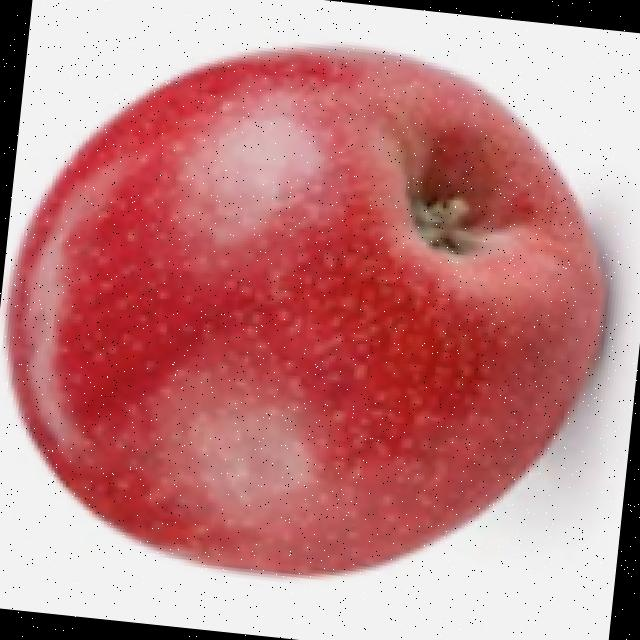Ripe: (0, 5, 637, 610)
